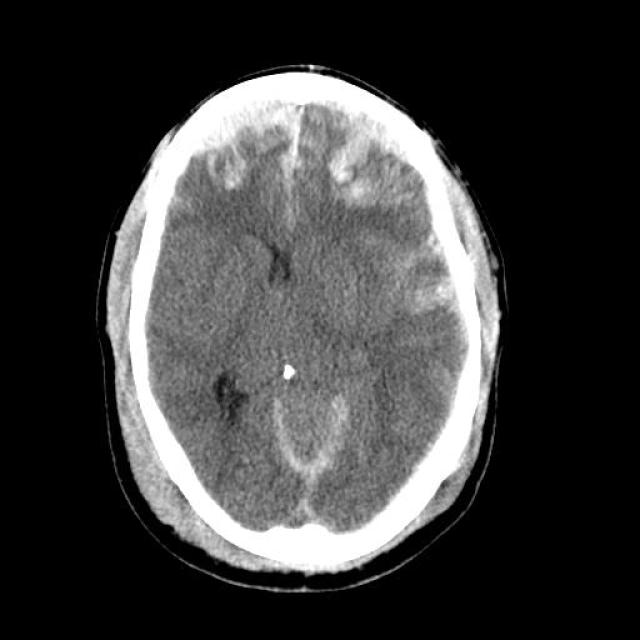Intraparenchymal: (310, 130, 416, 235), (388, 245, 482, 335)
Subarachnoid: (202, 138, 254, 198)
Subdural: (136, 82, 322, 156)
